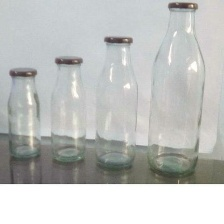bottle: (144, 0, 214, 182), (91, 29, 139, 177), (48, 52, 88, 164), (3, 65, 44, 162)
